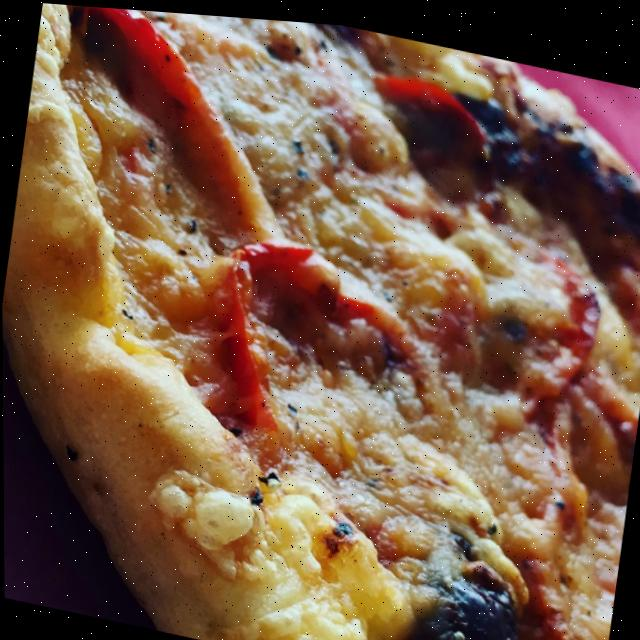black_olives: (399, 561, 523, 640)
pizza: (0, 0, 640, 640)
